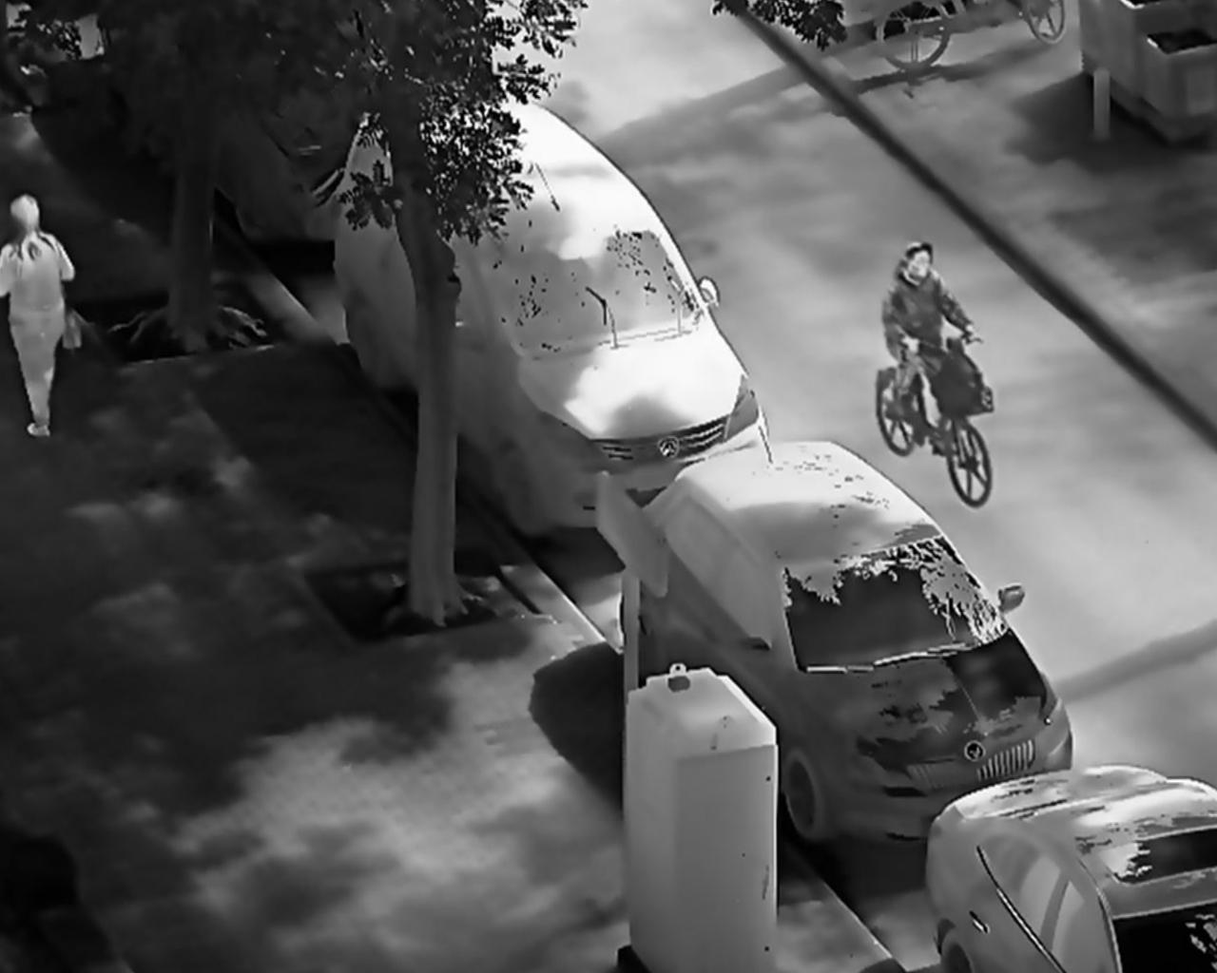person: (880, 238, 988, 428)
